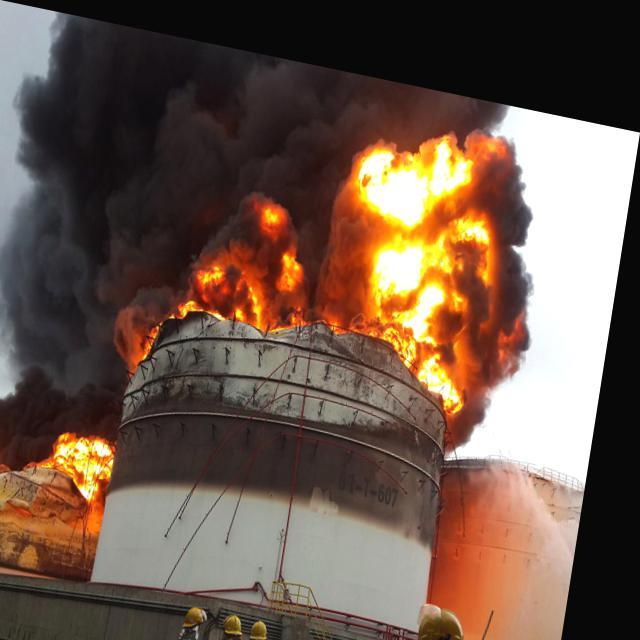Fire: (325, 86, 564, 432), (127, 176, 330, 390), (46, 407, 133, 503), (0, 432, 19, 508)
